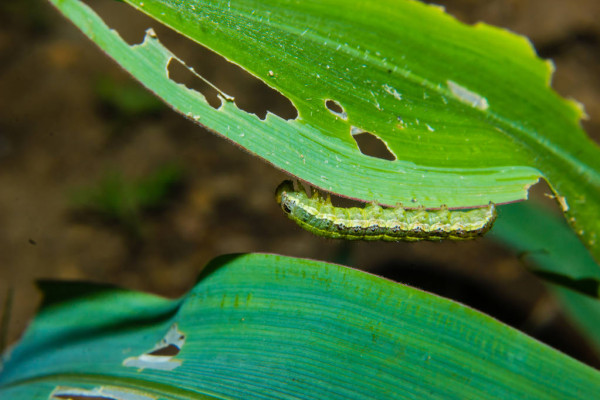Armyworm: (257, 176, 530, 256)
